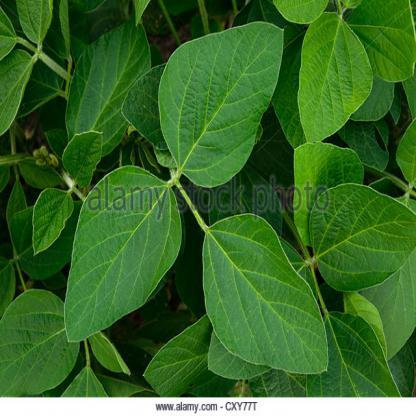Soyabean leaf: (154, 22, 284, 190), (63, 163, 180, 345), (200, 212, 329, 375)
